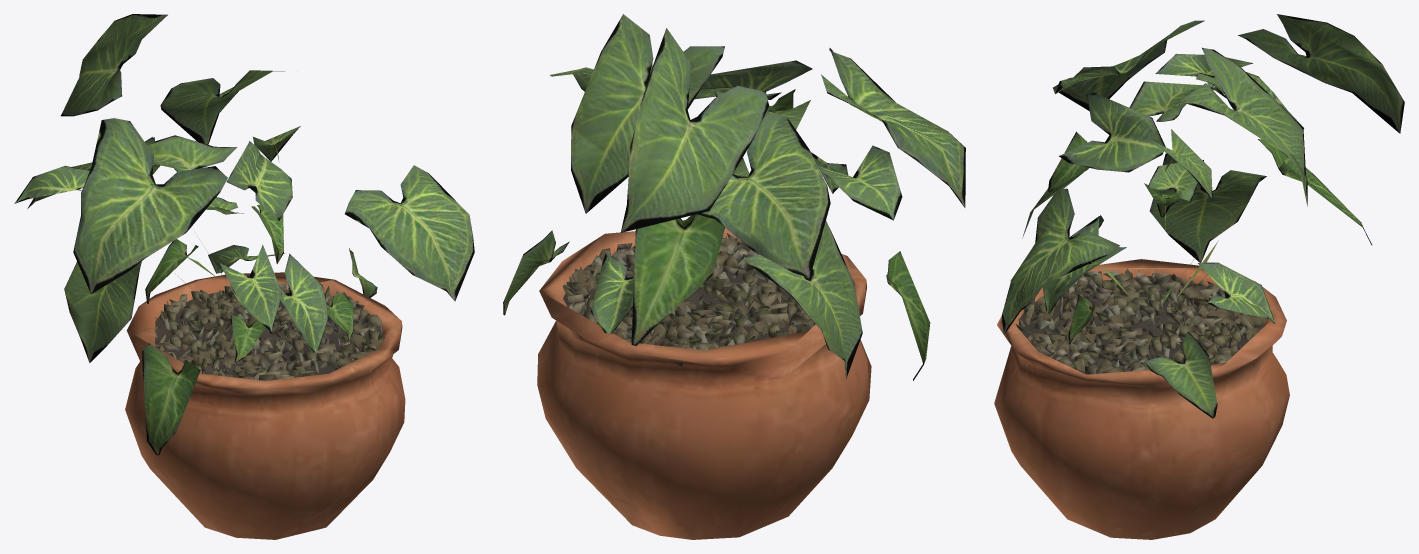
File: plant.glb
3 renders of one model, left to right at view 1: azimuth 30°, elevation 25°; view 2: azimuth 150°, elevation 25°; view 3: azimuth 270°, elevation 25°, orthographic. The views are drawn at different scales.
Parts seen in each view (by area): view 1: potted_plant_02_leaves, potted_plant_02_pot; view 2: potted_plant_02_leaves, potted_plant_02_pot; view 3: potted_plant_02_pot, potted_plant_02_leaves.
Boxes of the visible parts, <box> form: potted_plant_02_leaves: <box>14,14,474,455</box>; potted_plant_02_pot: <box>125,272,405,539</box>; potted_plant_02_leaves: <box>503,14,965,380</box>; potted_plant_02_pot: <box>537,228,871,539</box>; potted_plant_02_pot: <box>994,259,1289,539</box>; potted_plant_02_leaves: <box>1001,14,1404,418</box>.
Bounding box in the file's own units: 0.7009 × 0.8395 × 0.6554.
2 materials, 2 textured.
